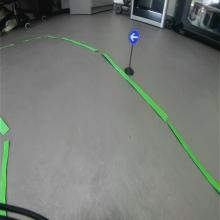left: (128, 27, 140, 45)
